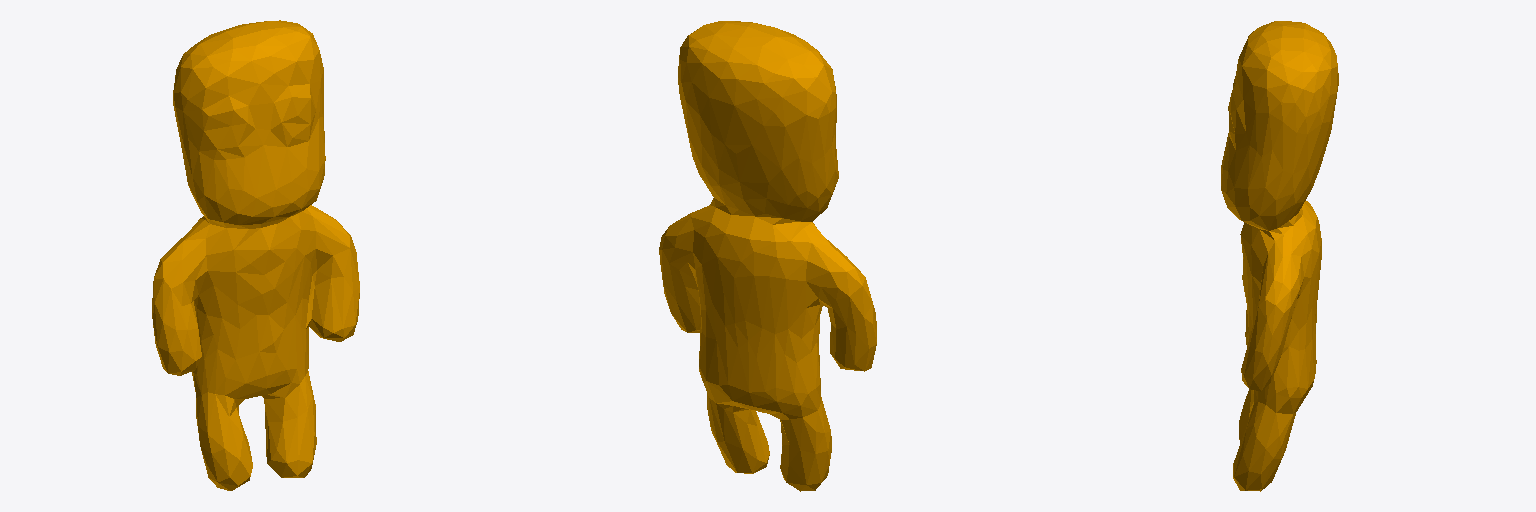
robot.urdf — toy_poisson_022:
<?xml version="1.0"?>
<robot name="toy_poisson_022">
  <link name="base_link">
    <contact>
      <lateral_friction value="1.0"/>
      <rolling_friction value="0.0"/>
      <contact_cfm value="0.0"/>
      <contact_erp value="1.0"/>
    </contact>
    <inertial>
      <mass value="0.269379618457"/>
      <inertia ixx="1" ixy="0" ixz="0" iyy="1" iyz="0" izz="1"/>
    </inertial>
    <visual>
      <geometry>
        <mesh filename="toy_poisson_022_visual.obj"/>
      </geometry>
    </visual>
    <collision>
      <geometry>
        <mesh filename="toy_poisson_022_collision.obj"/>
      </geometry>
    </collision>
  </link>
</robot>

--- What the picture shows (computed from the rendered views, not written in the file) ---
The picture shows the robot from 3 angles, left to right: view 1: azimuth 30°, elevation 25°; view 2: azimuth 150°, elevation 25°; view 3: azimuth 270°, elevation 25°; orthographic projection.
Model toy_poisson_022 with 1 links and 0 joints (none), rooted at base_link, posed all joints at 0.
Visible links, largest first — view 1: base_link; view 2: base_link; view 3: base_link.
Link boxes in pixels (bbox=[...]): base_link: bbox=[152, 20, 359, 490]; base_link: bbox=[659, 21, 876, 491]; base_link: bbox=[1221, 21, 1338, 491].
Bounding box of the posed robot: 0.07 × 0.0352 × 0.1449 m (x, y, z).
1 mesh visuals loaded from 1 distinct referenced files (1 OBJ).